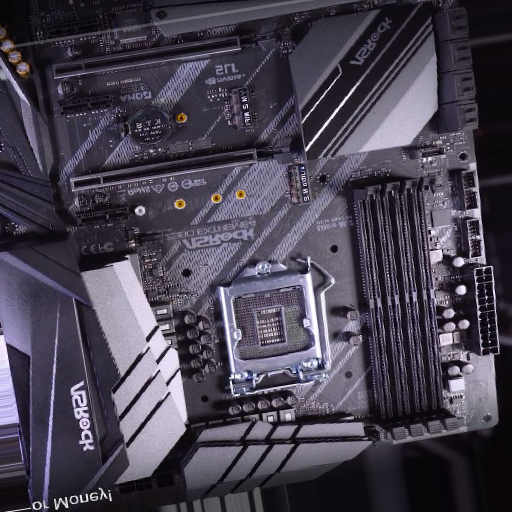CPU: (214, 260, 330, 381)
GPU: (51, 21, 279, 77), (66, 136, 297, 190)
MOTHERBOARD: (8, 5, 502, 494)
RAM: (349, 174, 462, 446)
SSD: (225, 85, 257, 131), (285, 164, 313, 205)
